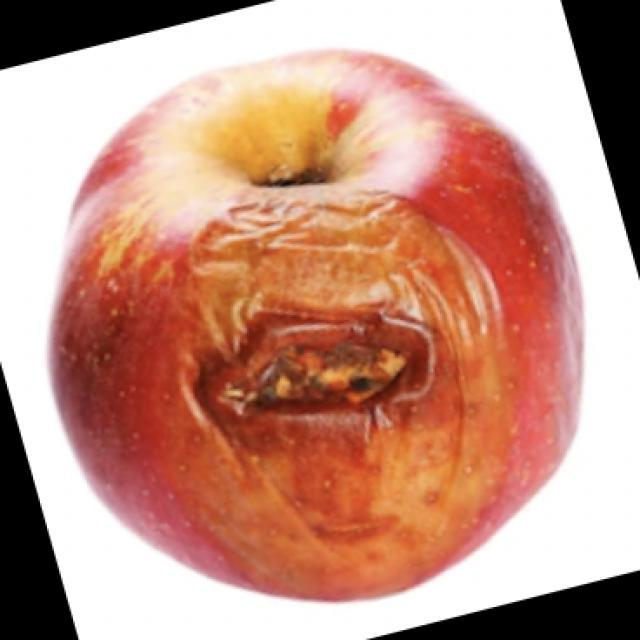Rotten: (47, 54, 588, 594)
